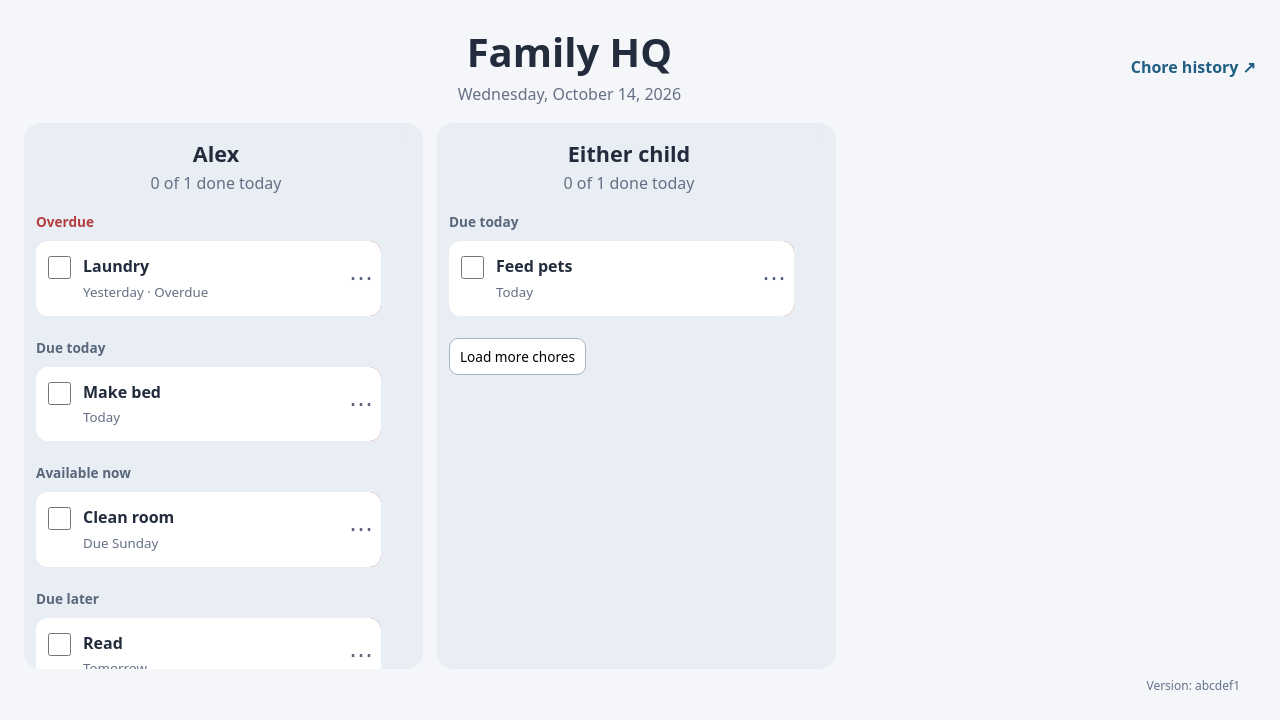
Test: Family HQ dashboard › reports completion network errors and restores the control
The image size is (1280, 720).
Expected: the text "Make bed" is shown, [83,382,161,403]
Click the checkbox labelled "Make bed Today".
click(60, 393)  # box [48,382,71,405]
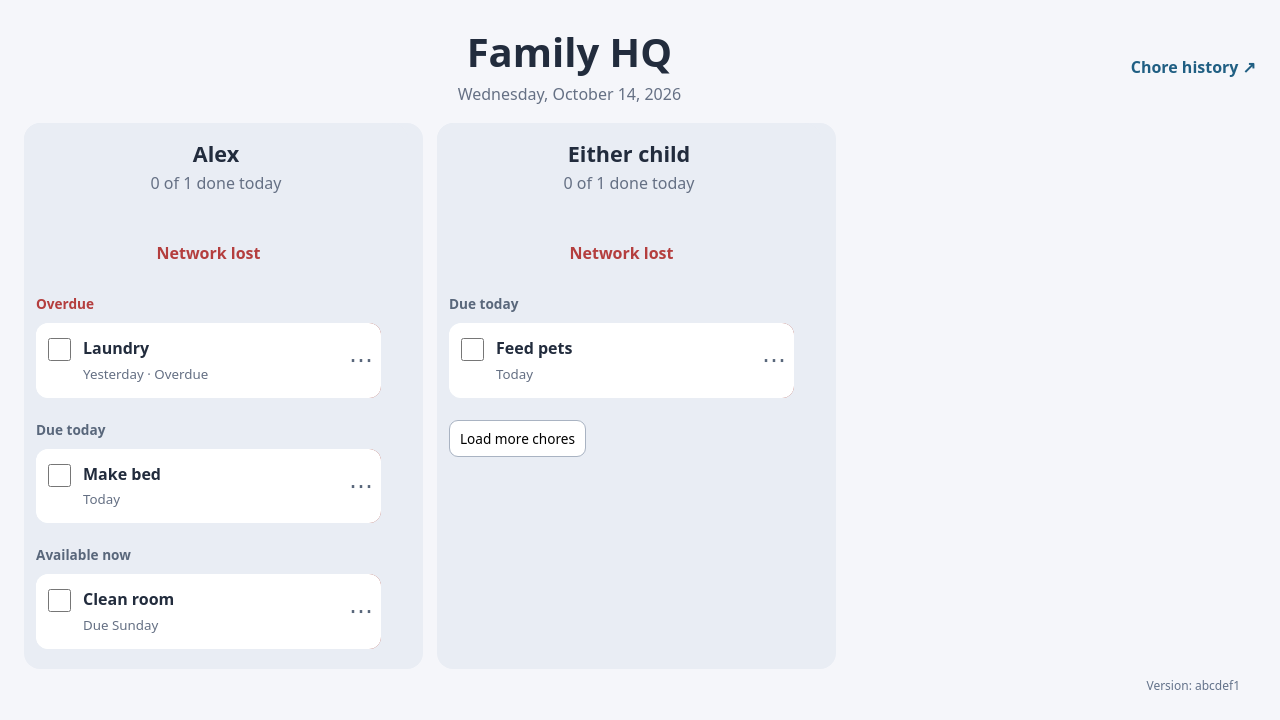
Expected: the checkbox labelled "Make bed Today" is enabled, [48,464,71,487]
Result: the message "Network lost" below "Alex" is shown at [156,242,260,264]
